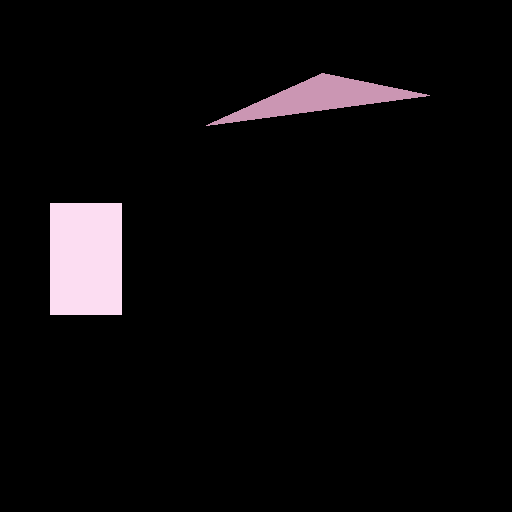rectangle: (50, 203, 121, 314)
triangle: (206, 73, 429, 125)
